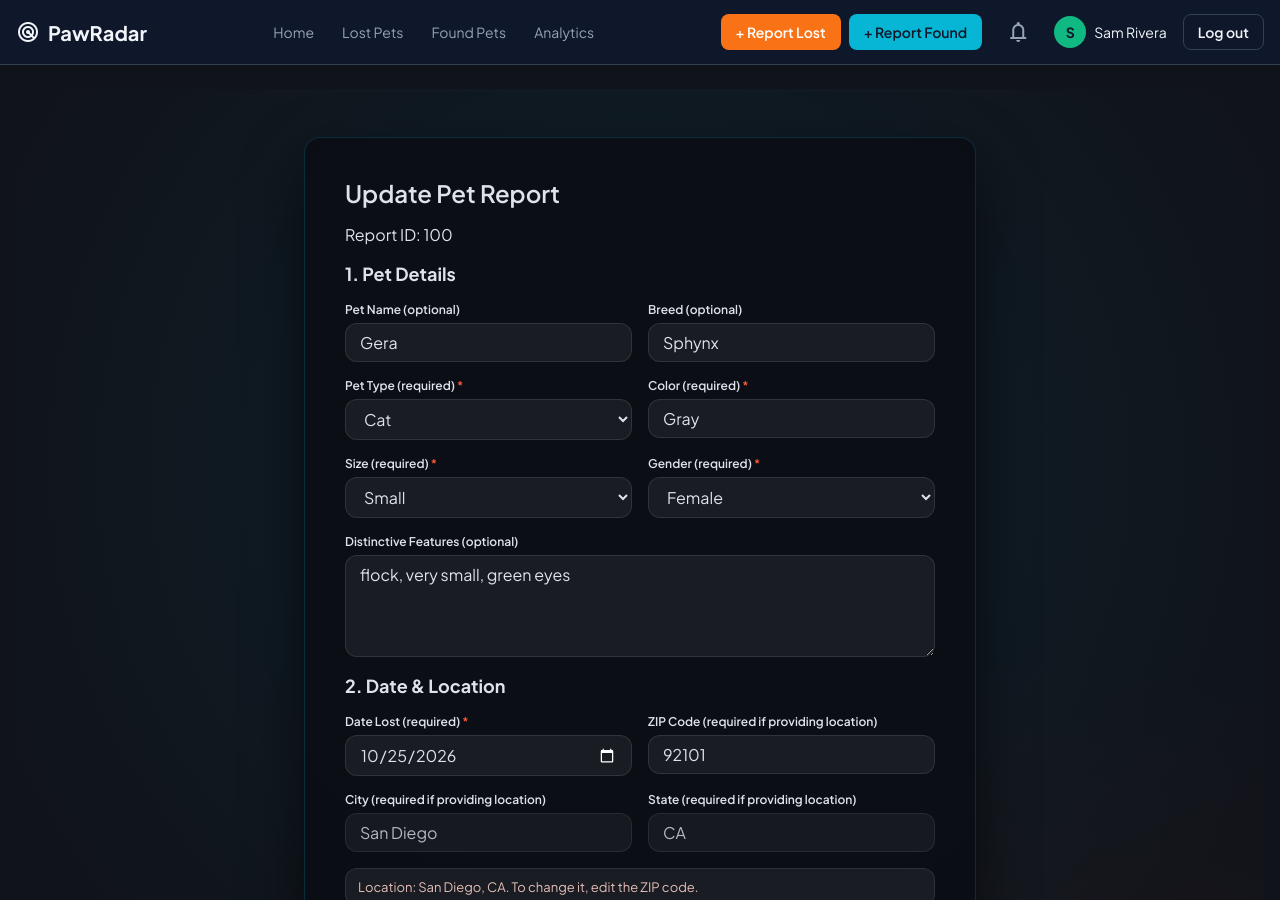
Test: UpdateReportPage › 3. updates an existing pet report successfully
This screenshot has width=1280, height=900.
Replace the text in the field labelled "Pet Name (optional)" with "Chucha" at coordinates (488, 343), box x1=345 y1=323 x2=632 y2=362
(page scrolled)
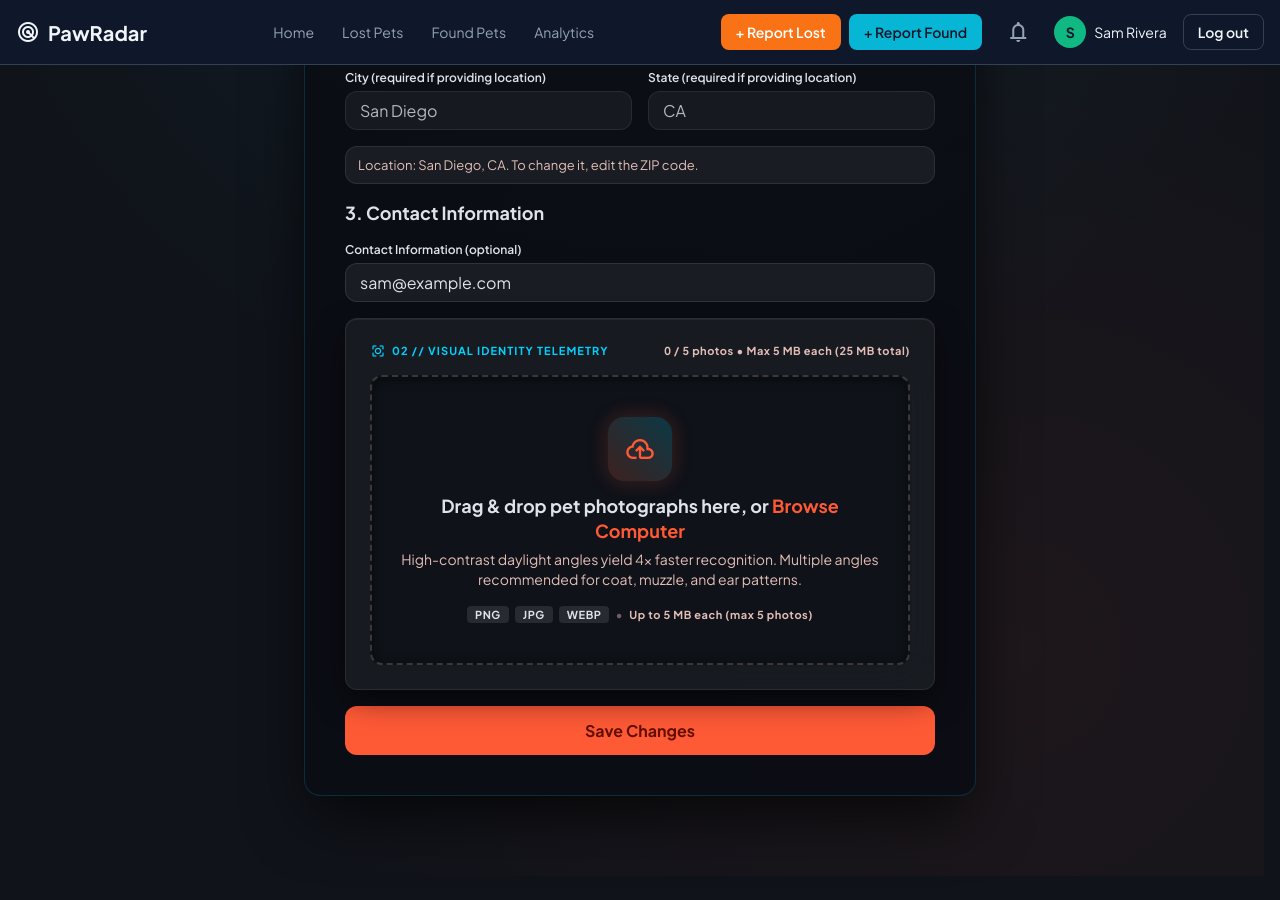
Click the button "Save Changes" at coordinates (640, 730), box x1=345 y1=706 x2=935 y2=754
(page scrolled)
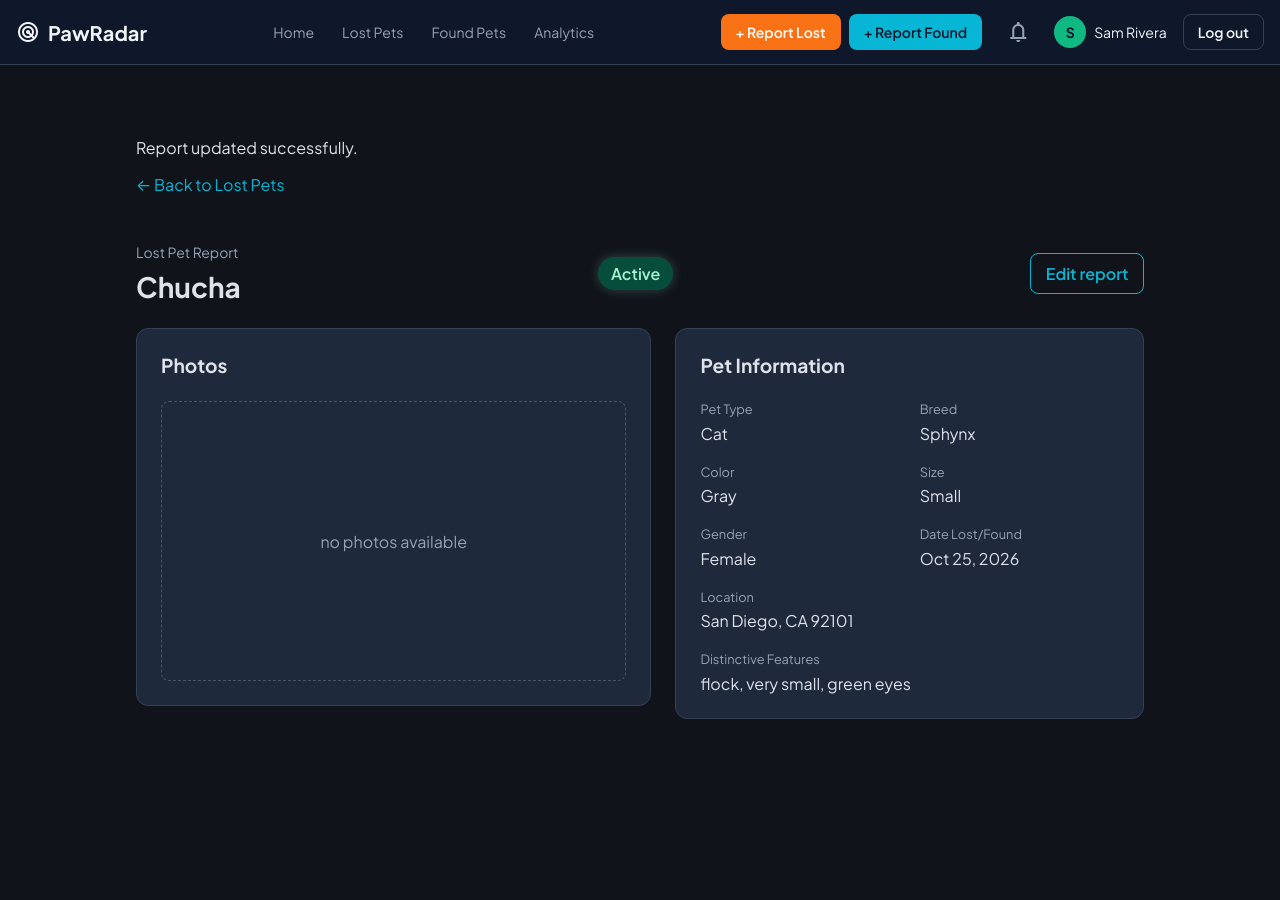
Expected: the heading "Chucha" is shown, x1=136 y1=269 x2=241 y2=304
Expected: the message reads "Report updated successfully.", x1=136 y1=137 x2=358 y2=158
Click the link "← Back to Lost Pets" at coordinates (210, 184), box x1=136 y1=174 x2=285 y2=195
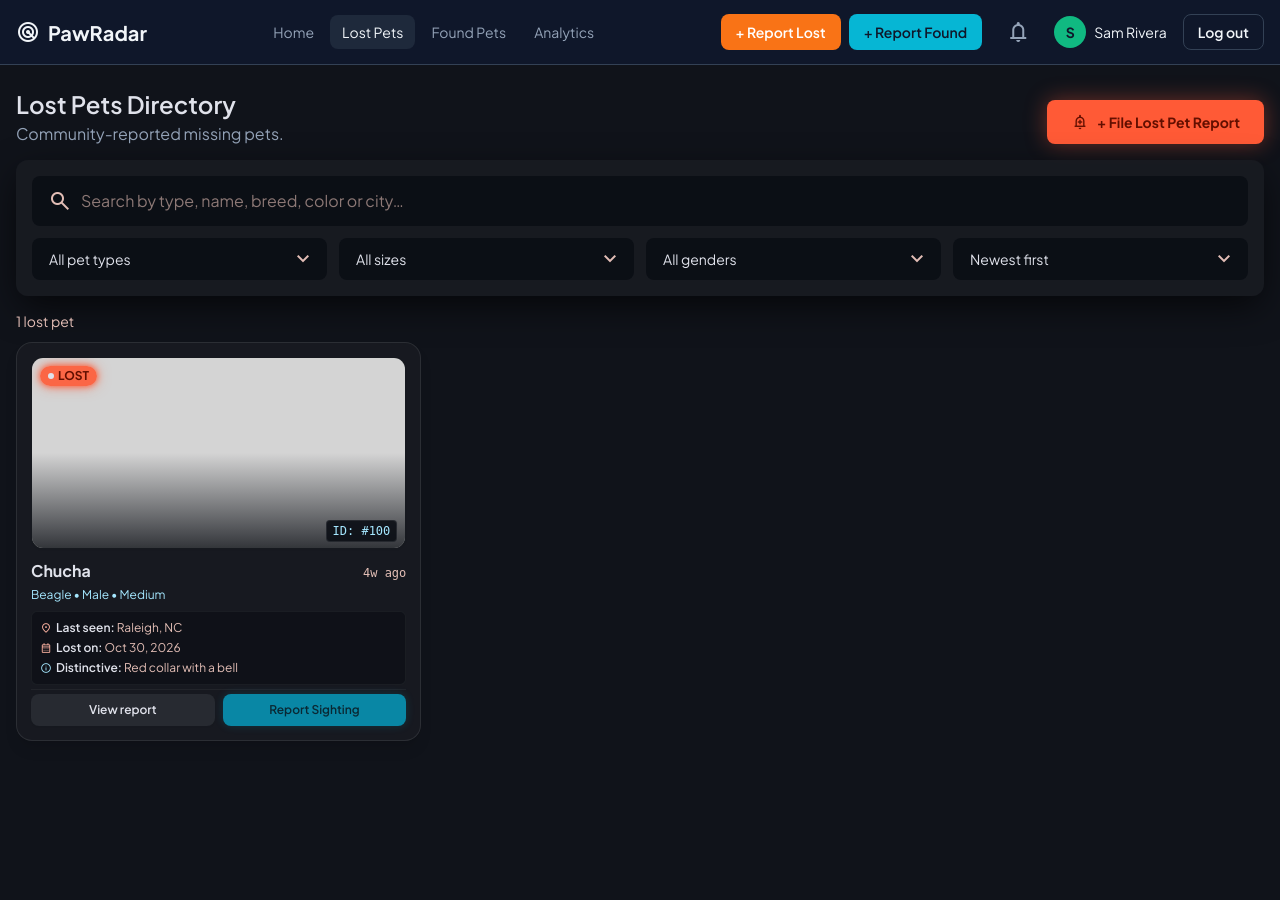
Click the link "Chucha" at coordinates (61, 570), box x1=31 y1=560 x2=91 y2=581
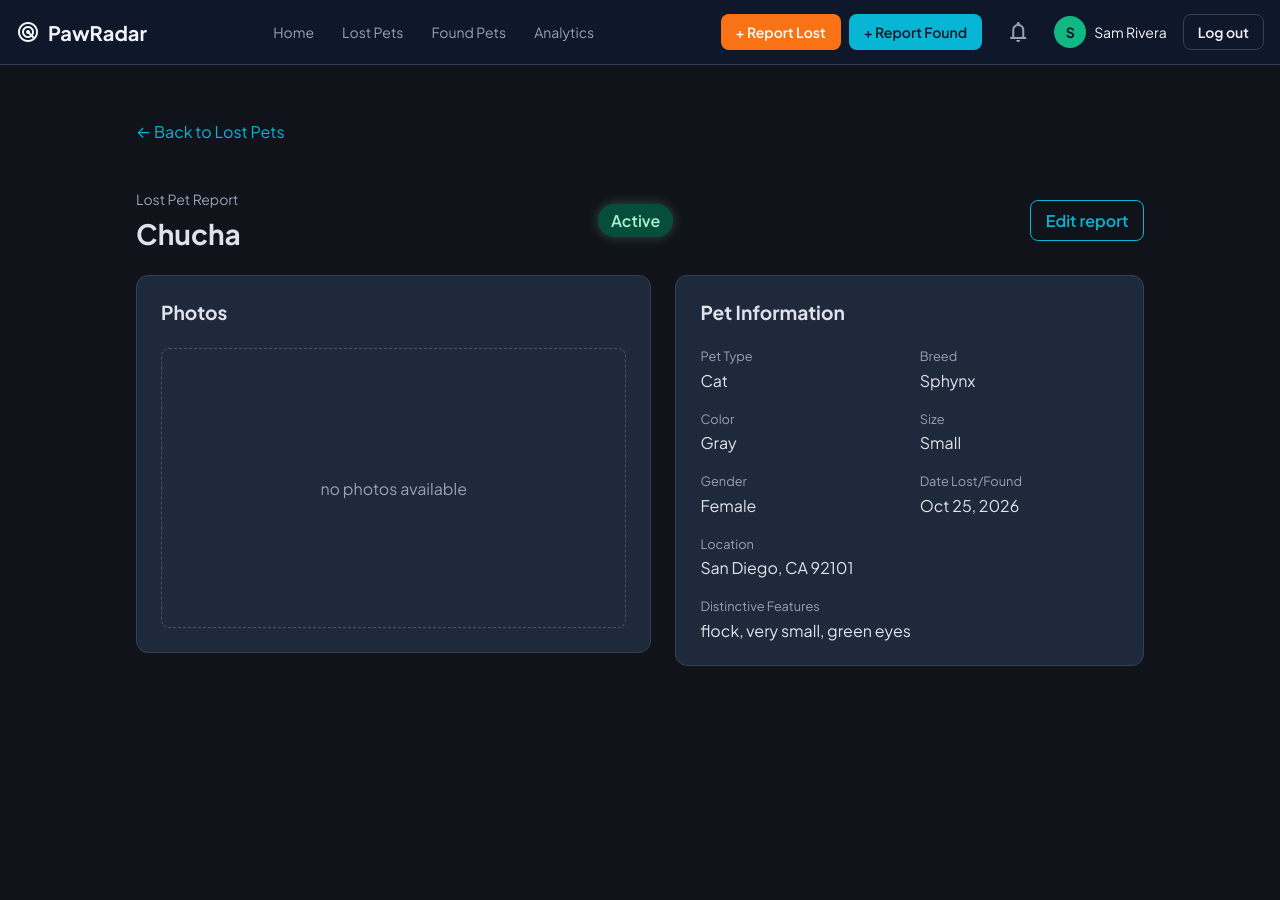
Expected: the text "Report updated successfully." is not shown
Expected: the heading "Chucha" is shown, x1=136 y1=216 x2=241 y2=251
